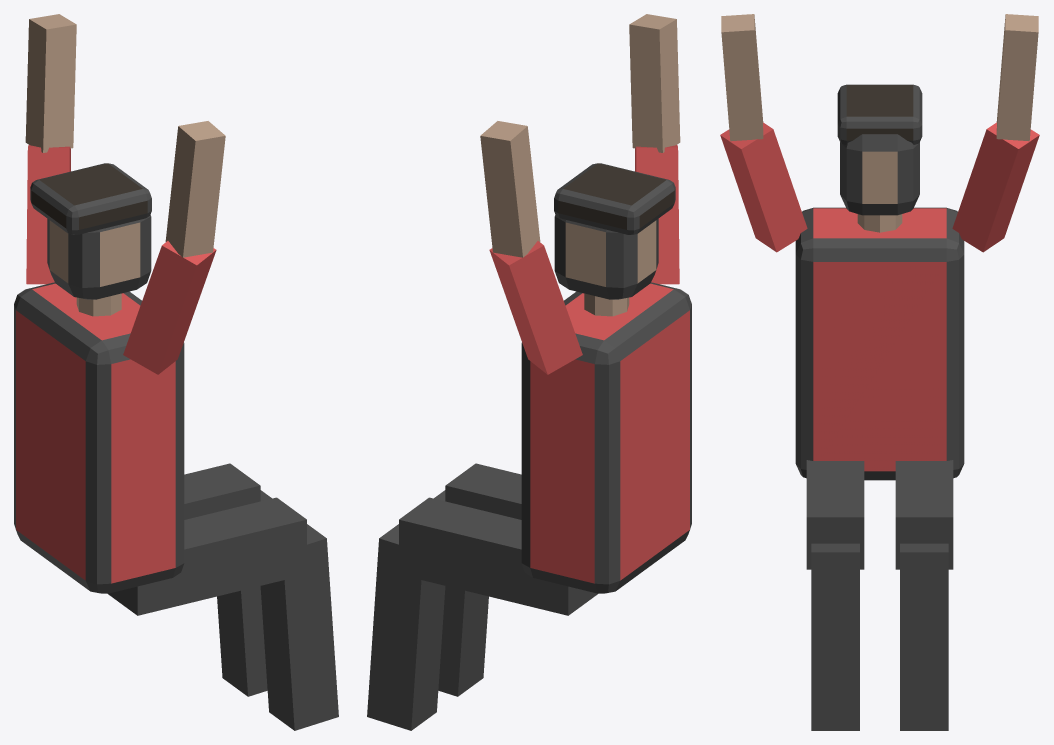
The model's file is SM_CrowdCheer.fbx.
The picture shows the model from 3 angles, left to right: view 1: azimuth 30°, elevation 25°; view 2: azimuth 150°, elevation 25°; view 3: azimuth 270°, elevation 25°; orthographic projection. The views are drawn at different scales.
Visible parts, largest first — view 1: SM_CrowdCheer; view 2: SM_CrowdCheer; view 3: SM_CrowdCheer.
Boxes of the visible parts, box(x1,y1,x2,y2) form: SM_CrowdCheer: box(14, 14, 338, 730); SM_CrowdCheer: box(367, 14, 691, 730); SM_CrowdCheer: box(720, 14, 1039, 730).
Size of the model in its own units: 0.6299 by 1.57 by 0.72.
